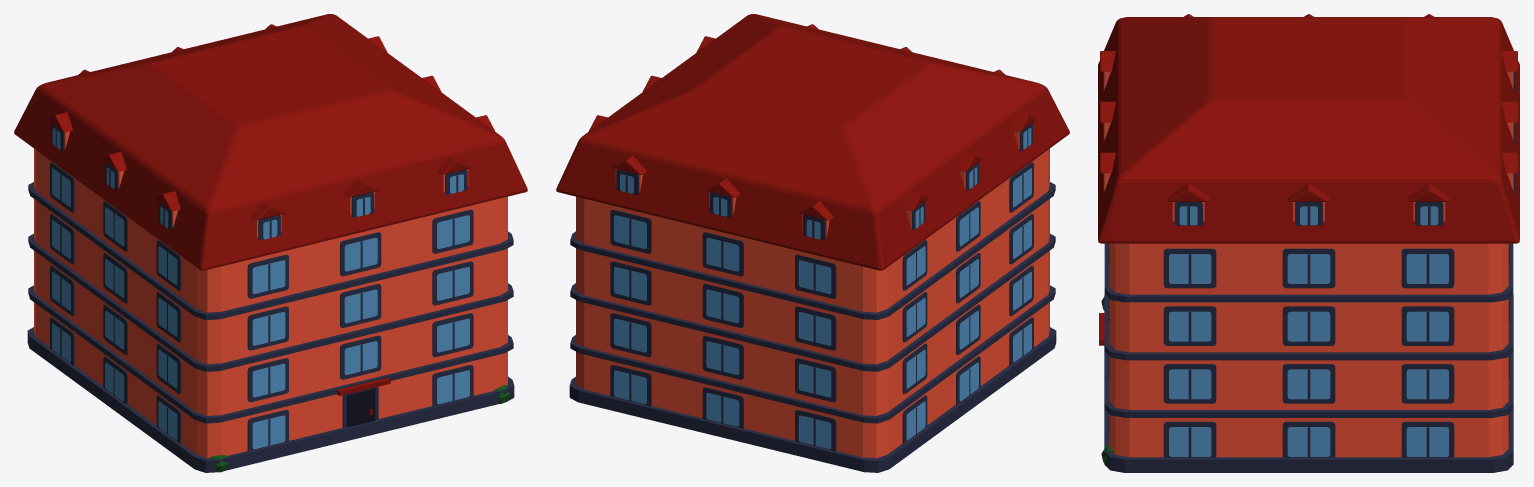
Rendered from house-2x2-4f-mansard-c.glb.
The picture shows the model from 3 angles, left to right: view 1: azimuth 30°, elevation 25°; view 2: azimuth 150°, elevation 25°; view 3: azimuth 270°, elevation 25°; orthographic projection. The views are drawn at different scales.
Visible parts, largest first — view 1: house-2x2-4f-mansard-c; view 2: house-2x2-4f-mansard-c; view 3: house-2x2-4f-mansard-c.
Boxes of the visible parts, bbox=[...] form: house-2x2-4f-mansard-c: bbox=[14, 14, 527, 472]; house-2x2-4f-mansard-c: bbox=[556, 14, 1069, 472]; house-2x2-4f-mansard-c: bbox=[1098, 14, 1519, 472].
Size of the model in its own units: 1.99 by 1.71 by 1.99.
Materials: 1 (1 with a texture image).
